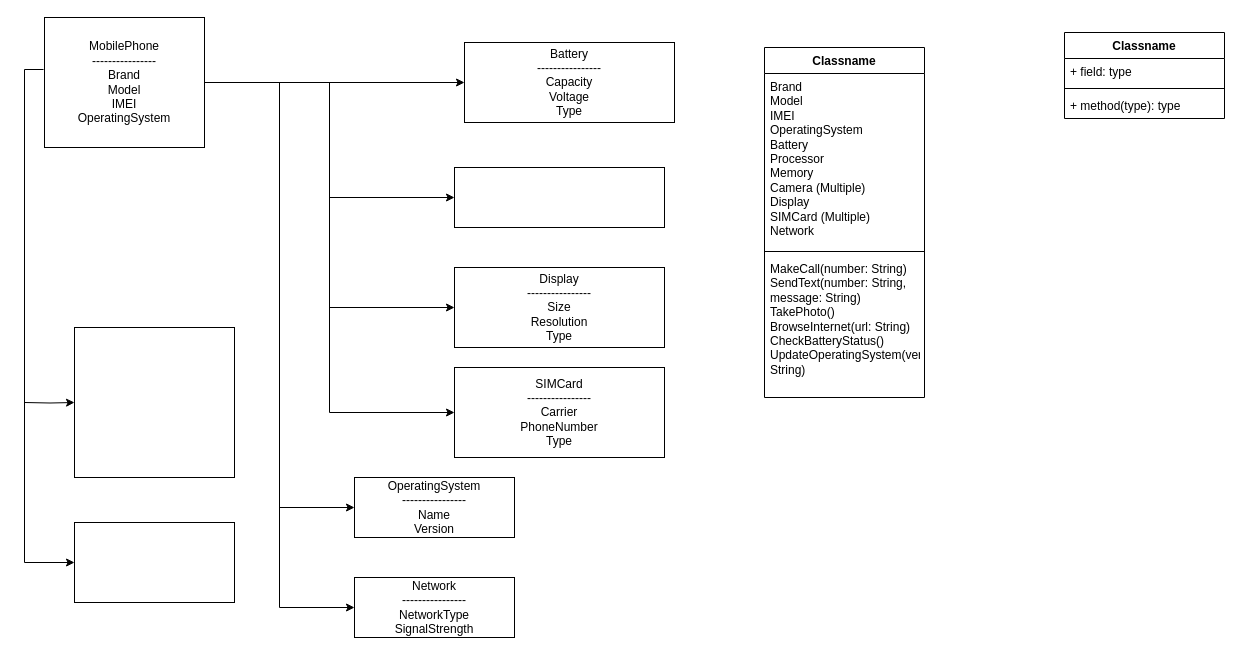
Image size: 1242x655. Some labels were removed from this diagram. The centre of each missing label's shape, as x and y in pixels:
"Camera ---------------- Resolution Aperture IsFrontCamera" belongs at point 154,402.
"Memory ---------------- RAM Storage" belongs at point 559,197.
"Processor ---------------- Brand Model Speed Cores" belongs at point 154,562.
